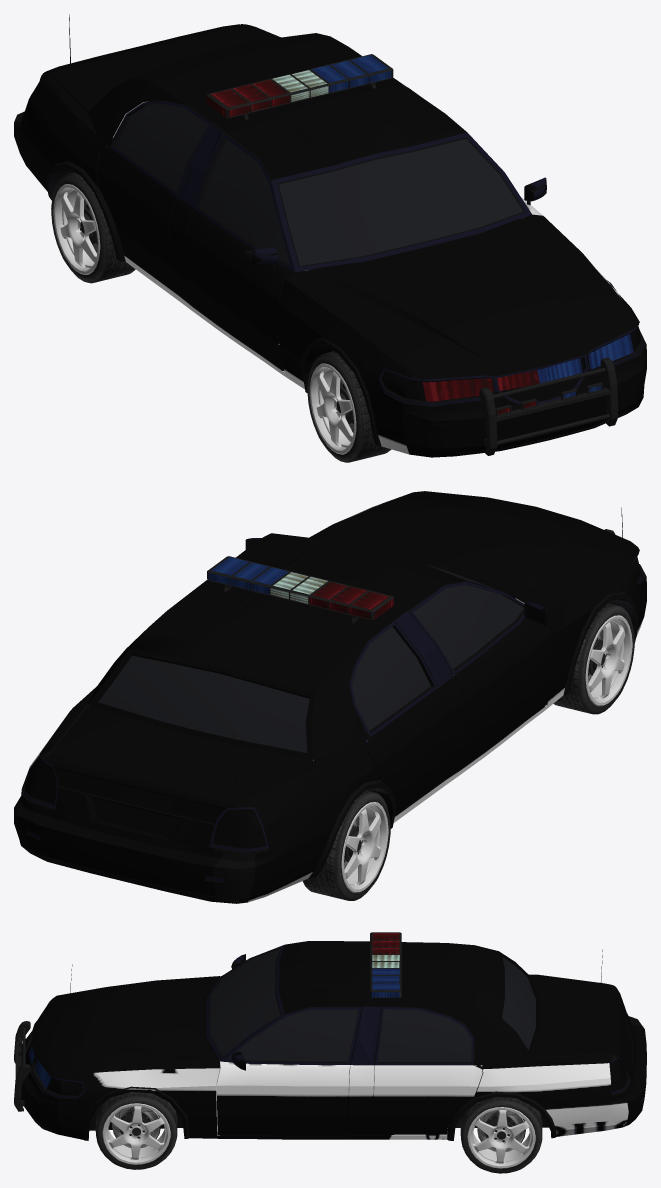
Rendered from PoliceCar9.FBX.
3 renders of one model, top to bottom at view 1: azimuth 30°, elevation 25°; view 2: azimuth 150°, elevation 25°; view 3: azimuth 270°, elevation 25°, orthographic. The views are drawn at different scales.
Parts seen in each view (by area): view 1: Body, FR, BR; view 2: Body, BR, FR; view 3: Body, FL, BL.
Part boxes in pixels (x1,y1,x2,y2): Body: (14,14,646,457); FR: (307,351,391,462); BR: (51,172,135,283); Body: (14,491,646,903); BR: (302,790,390,900); FR: (553,603,634,714); Body: (14,932,646,1140); FL: (95,1091,177,1169); BL: (460,1097,542,1173).
Size of the model in its own units: 18.77 by 13.24 by 46.93.
